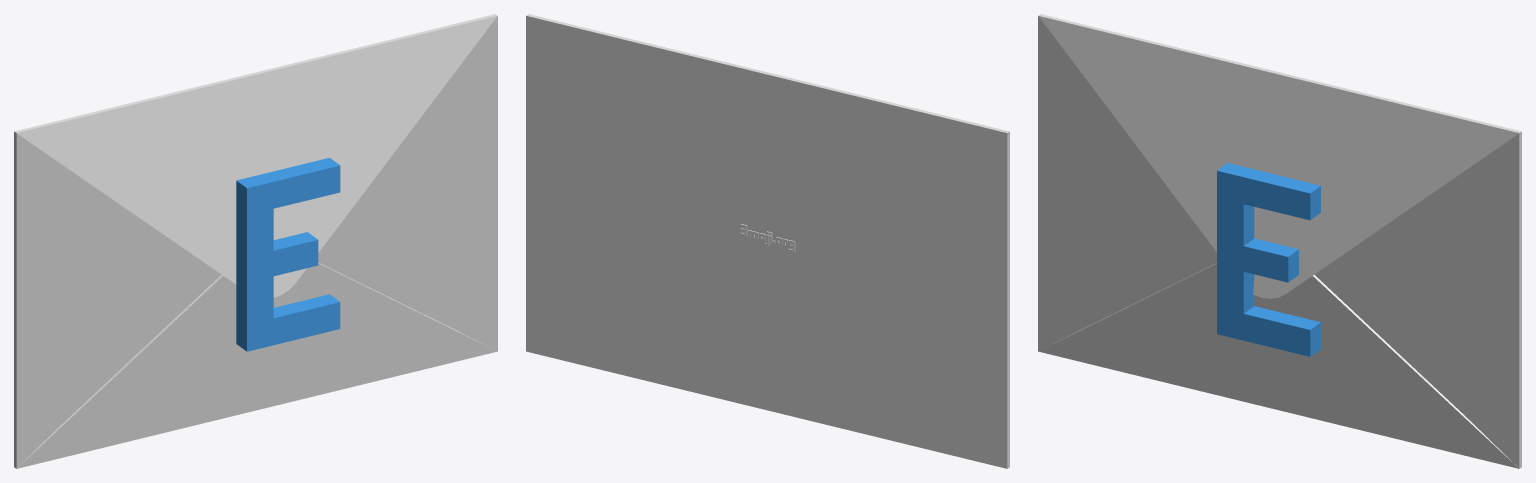
The model's file is email.fbx.
3 renders of one model, left to right at view 1: azimuth 30°, elevation 25°; view 2: azimuth 150°, elevation 25°; view 3: azimuth 330°, elevation 25°, orthographic.
Parts seen in each view (by area): view 1: Plane.333; view 2: Plane.333; view 3: Plane.333.
Part boxes in pixels (x1=…): Plane.333: x1=14, y1=14, x2=497, y2=468; Plane.333: x1=526, y1=14, x2=1009, y2=468; Plane.333: x1=1038, y1=14, x2=1521, y2=468.
Size of the model in its own units: 234 by 156 by 24.28.
1 material, 1 textured.
